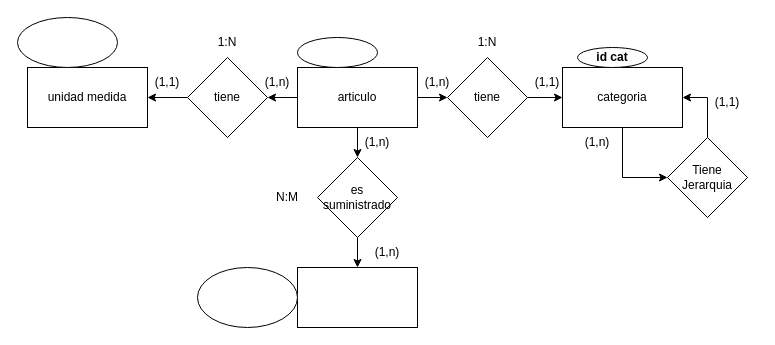
Image size: 775x345. Some labels were removed from this diagram. Here are the shapes that lost their labels. From the top down, the centre of each, then its label:
At point 67,42: "id unidad medidad".
At point 337,52: "id_arti".
At point 247,297: "id_proveedor".
At point 357,297: "proveedor".
